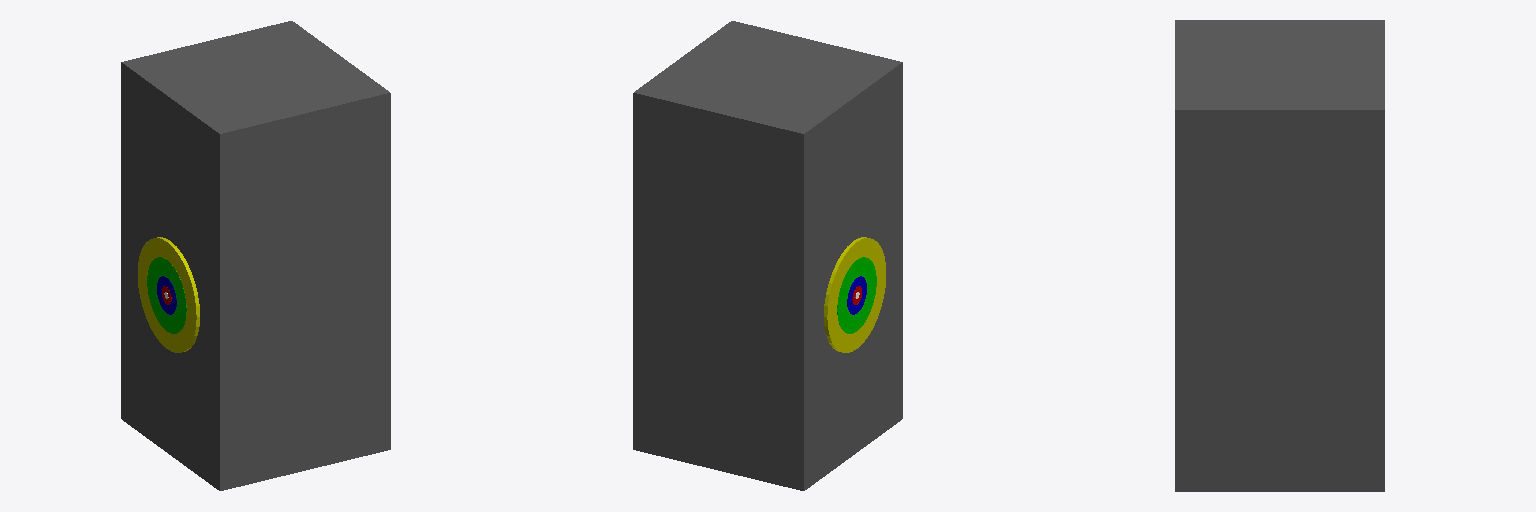
URDF robot description (simple_box):
<?xml version="1.0"?>
<robot name="simple_box">
	<material name="white">
		<color rgba="1 1 1 1"/>
	</material>

	<material name="blue">
		<color rgba= "0 0 0.8 1"/>
	</material>

	<material name="red">
		<color rgba="0.8 0 0 1"/>
	</material>

	<material name="green">
		<color rgba="0 0.8 0 1"/>
	</material>

	<material name="yellow">
		<color rgba="0.8 0.8 0 1"/>
	</material>

	<material name="cyan">
		<color rgba="0 0.8 0.8 0.8"/>
	</material>

	<material name="purple">
		<color rgba="0.8 0 0.8 1"/>
	</material>

	<material name="gray">
		<color rgba="0.4 0.4 0.4 1"/>
	</material>

	<material name="black">
		<color rgba="0 0 0 0.4"/>
	</material>

	<link name="world"/>

	<joint name="fixed" type="fixed">
		<parent link="world"/>
		<child link="base_link"/>
		<origin xyz="0 0 0"/>
	</joint>

	<link name="base_link">
		<inertial>
			<origin xyz="0 0 1" />
			<mass value="1.0" />
			<inertia  ixx="1.0" ixy="0.0"  ixz="0.0"  iyy="100.0"  iyz="0.0"  izz="1.0" />
		</inertial>
		<visual>
			<origin xyz="0 0 1"/>
			<geometry>
				<box size="1 1 2" />
			</geometry>
			<material name="gray"/>
		</visual>
		<collision>
			<origin xyz="0 0 0.25"/>
			<geometry>
				<box size="1 1 0.5" />
			</geometry>
		</collision>
	</link>

	<joint name="joint_button" type="fixed">
		<parent link="base_link"/>
		<child link="button"/>
		<origin xyz="-0.50 0 0.90"/>
	</joint>

	<link name="button">
		<inertial>
			<origin xyz="0 0 0" />
			<mass value="1.0" />
			<inertia  ixx="1.0" ixy="0.0"  ixz="0.0"  iyy="100.0"  iyz="0.0"  izz="1.0" />
		</inertial>
		<visual>
			<origin xyz="0 0 0" rpy="0 1.57075 0"/>
			<geometry>
				<cylinder length="0.05" radius="0.02" />
			</geometry>
			<material name="white"/>
		</visual>
		<!--collision>
			<origin xyz="0 0 0" rpy="0 1.57075 0"/>
			<geometry>
				<box size="1 1 2" />
			</geometry>
		</collision-->
	</link>

	<joint name="joint_circle1" type="fixed">
		<parent link="base_link"/>
		<child link="circle1"/>
		<origin xyz="-0.499 0  0.90"/>
	</joint>

	<link name="circle1">
		<inertial>
			<origin xyz="0 0 0" />
			<mass value="1.0" />
			<inertia  ixx="1.0" ixy="0.0"  ixz="0.0"  iyy="100.0"  iyz="0.0"  izz="1.0" />
		</inertial>
		<visual>
			<origin xyz="0 0 0" rpy="0 1.57075 0"/>
			<geometry>
				<cylinder length="0.05" radius="0.05" />
			</geometry>
			<material name="red"/>
		</visual>
		<!--collision>
			<origin xyz="0 0 0" rpy="0 1.57075 0"/>
			<geometry>
				<box size="1 1 2" />
			</geometry>
		</collision-->
	</link>

	<joint name="joint_circle2" type="fixed">
		<parent link="base_link"/>
		<child link="circle2"/>
		<origin xyz="-0.498 0 0.90"/>
	</joint>

	<link name="circle2">
		<inertial>
			<origin xyz="0 0 0" />
			<mass value="1.0" />
			<inertia  ixx="1.0" ixy="0.0"  ixz="0.0"  iyy="100.0"  iyz="0.0"  izz="1.0" />
		</inertial>
		<visual>
			<origin xyz="0 0 0" rpy="0 1.57075 0"/>
			<geometry>
				<cylinder length="0.05" radius="0.1" />
			</geometry>
			<material name="blue"/>
		</visual>
		<!--collision>
			<origin xyz="0 0 0" rpy="0 1.57075 0"/>
			<geometry>
				<box size="1 1 2" />
			</geometry>
		</collision-->
	</link>

	<joint name="joint_circle3" type="fixed">
		<parent link="base_link"/>
		<child link="circle3"/>
		<origin xyz="-0.497 0 0.90"/>
	</joint>

	<link name="circle3">
		<inertial>
			<origin xyz="0 0 0" />
			<mass value="1.0" />
			<inertia  ixx="1.0" ixy="0.0"  ixz="0.0"  iyy="100.0"  iyz="0.0"  izz="1.0" />
		</inertial>
		<visual>
			<origin xyz="0 0 0" rpy="0 1.57075 0"/>
			<geometry>
				<cylinder length="0.05" radius="0.2" />
			</geometry>
			<material name="green"/>
		</visual>
		<!--collision>
			<origin xyz="0 0 0" rpy="0 1.57075 0"/>
			<geometry>
				<box size="1 1 2" />
			</geometry>
		</collision-->
	</link>
	
	<joint name="joint_circle4" type="fixed">
		<parent link="base_link"/>
		<child link="circle4"/>
		<origin xyz="-0.496 0 0.90"/>
	</joint>

	<link name="circle4">
		<inertial>
			<origin xyz="0 0 0" />
			<mass value="1.0" />
			<inertia  ixx="1.0" ixy="0.0"  ixz="0.0"  iyy="100.0"  iyz="0.0"  izz="1.0" />
		</inertial>
		<visual>
			<origin xyz="0 0 0" rpy="0 1.57075 0"/>
			<geometry>
				<cylinder length="0.05" radius="0.3" />
			</geometry>
			<material name="yellow"/>
		</visual>
		<!--collision>
			<origin xyz="0 0 0" rpy="0 1.57075 0"/>
			<geometry>
				<box size="1 1 2" />
			</geometry>
		</collision-->
	</link>


	<gazebo reference="base_link">
		<material>Gazebo/Grey</material>
		<mu1>1.0</mu1>
		<mu2>1.0</mu2>
	</gazebo>
	
	<gazebo reference="button">
		<!-- <material>Gazebo/White</material> -->
		<mu1>1.0</mu1>
		<mu2>1.0</mu2>
	</gazebo>

	<gazebo reference="circle1">
		<material>Gazebo/Red</material>
		<mu1>1.0</mu1>
		<mu2>1.0</mu2>
	</gazebo>
	<gazebo reference="circle2">
		<material>Gazebo/Blue</material>
		<mu1>1.0</mu1>
		<mu2>1.0</mu2>
	</gazebo>
	<gazebo reference="circle3">
		<material>Gazebo/Green</material>
		<mu1>1.0</mu1>
		<mu2>1.0</mu2>
	</gazebo>
	<gazebo reference="circle4">
		<material>Gazebo/Yellow</material>
		<mu1>1.0</mu1>
		<mu2>1.0</mu2>
	</gazebo>
</robot>

--- What the picture shows (computed from the rendered views, not written in the file) ---
The picture shows the robot from 3 angles, left to right: view 1: azimuth 30°, elevation 25°; view 2: azimuth 150°, elevation 25°; view 3: azimuth 270°, elevation 25°; orthographic projection.
Robot: simple_box — 7 links, 6 joints (6 fixed); root link world; default pose: all joints at 0.
Links seen in each view (by area): view 1: base_link, circle4, circle3; view 2: base_link, circle4, circle3; view 3: base_link.
Boxes of the visible links, left/top/right/bottom form: base_link: left=121, top=21, right=390, bottom=490; circle4: left=138, top=237, right=199, bottom=352; circle3: left=147, top=257, right=186, bottom=333; base_link: left=633, top=21, right=902, bottom=490; circle4: left=824, top=237, right=885, bottom=352; circle3: left=837, top=257, right=876, bottom=333; base_link: left=1175, top=20, right=1384, bottom=491.
Bounding box of the posed robot: 1.02 × 1 × 2 m (x, y, z).
Geometry: primitives only (box / cylinder / sphere), no mesh files.